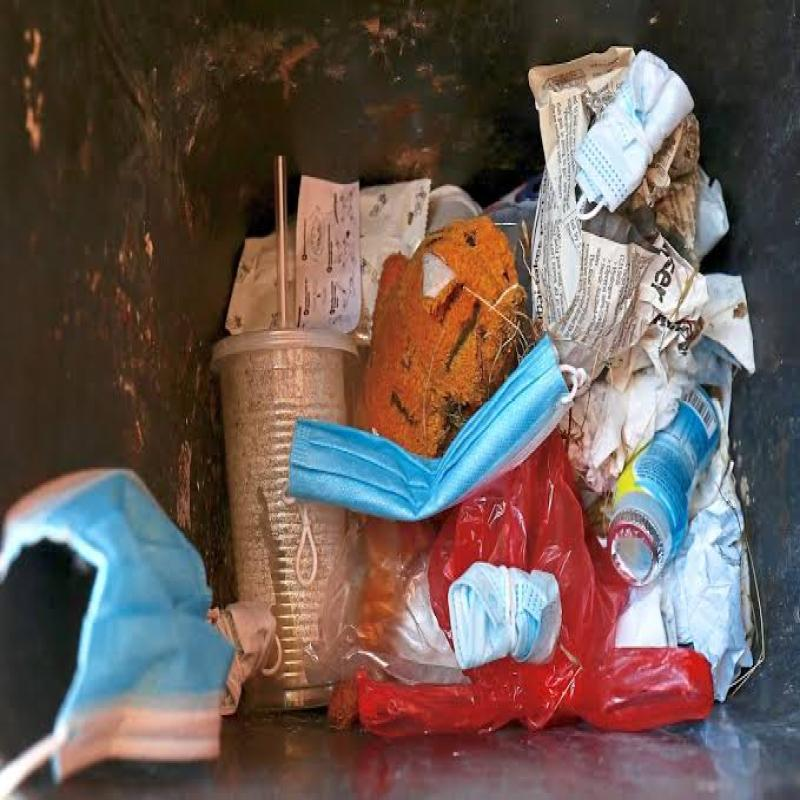facemask: (0, 467, 236, 800), (286, 335, 588, 588), (574, 51, 694, 221), (448, 561, 562, 671)
paper: (528, 46, 755, 381)
plastic bag: (358, 434, 715, 740)
plastic container: (213, 327, 356, 712), (607, 389, 720, 588)
plastic straw: (275, 155, 289, 327)
